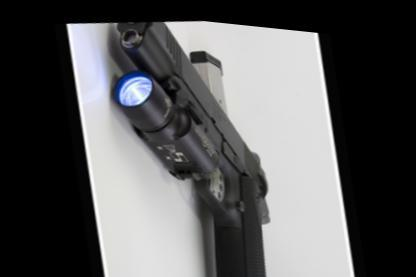pistol: (101, 8, 288, 275)
